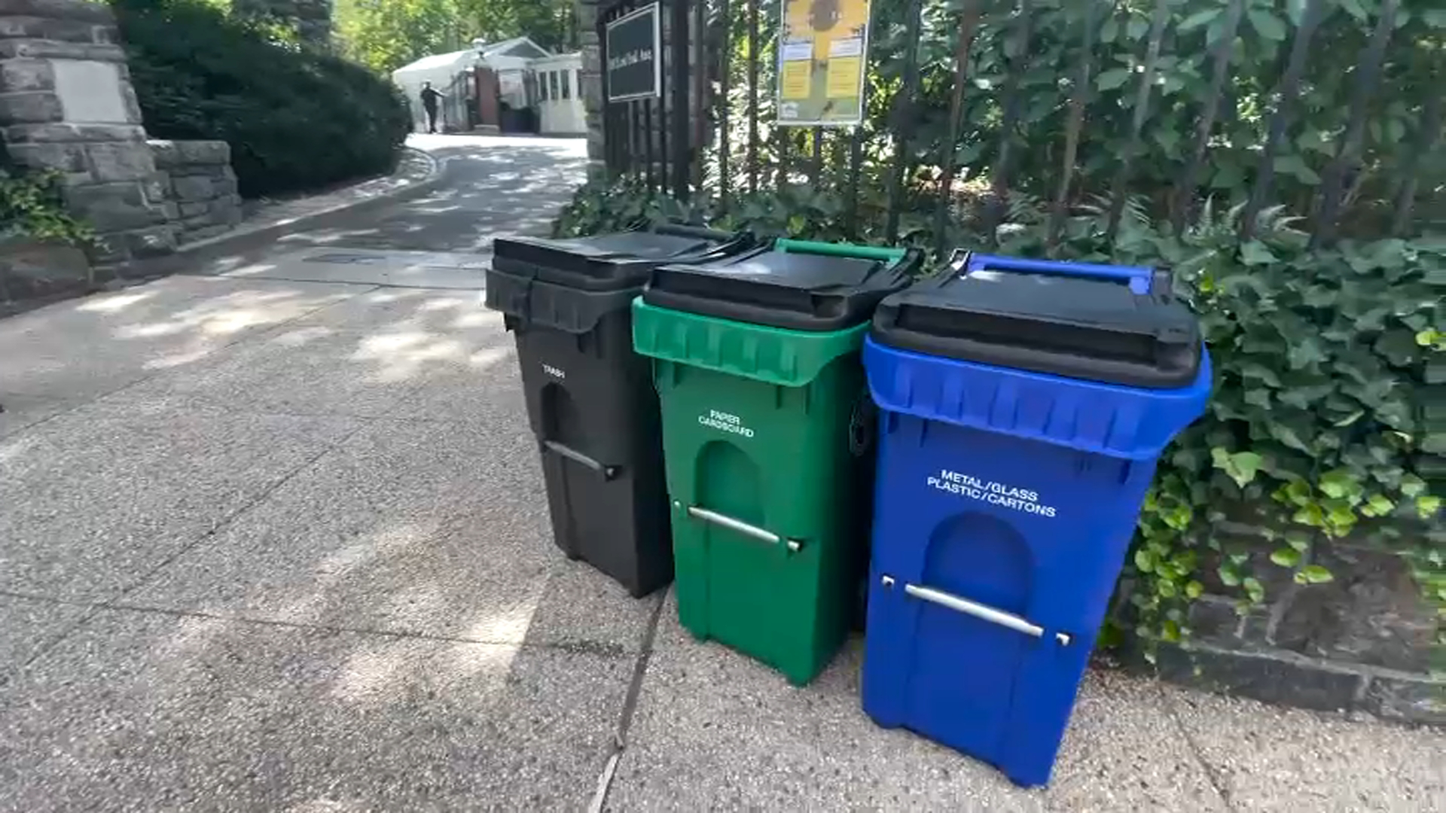TrashBin: (860, 219, 1203, 793), (636, 193, 898, 697), (465, 185, 704, 607)
